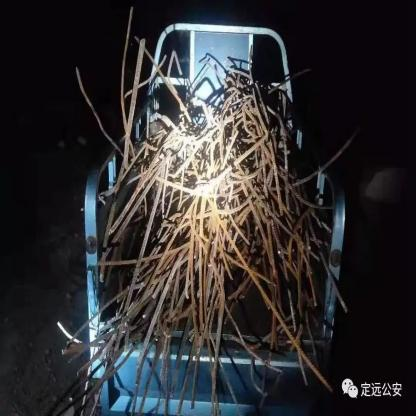rebar: (42, 2, 371, 415)
